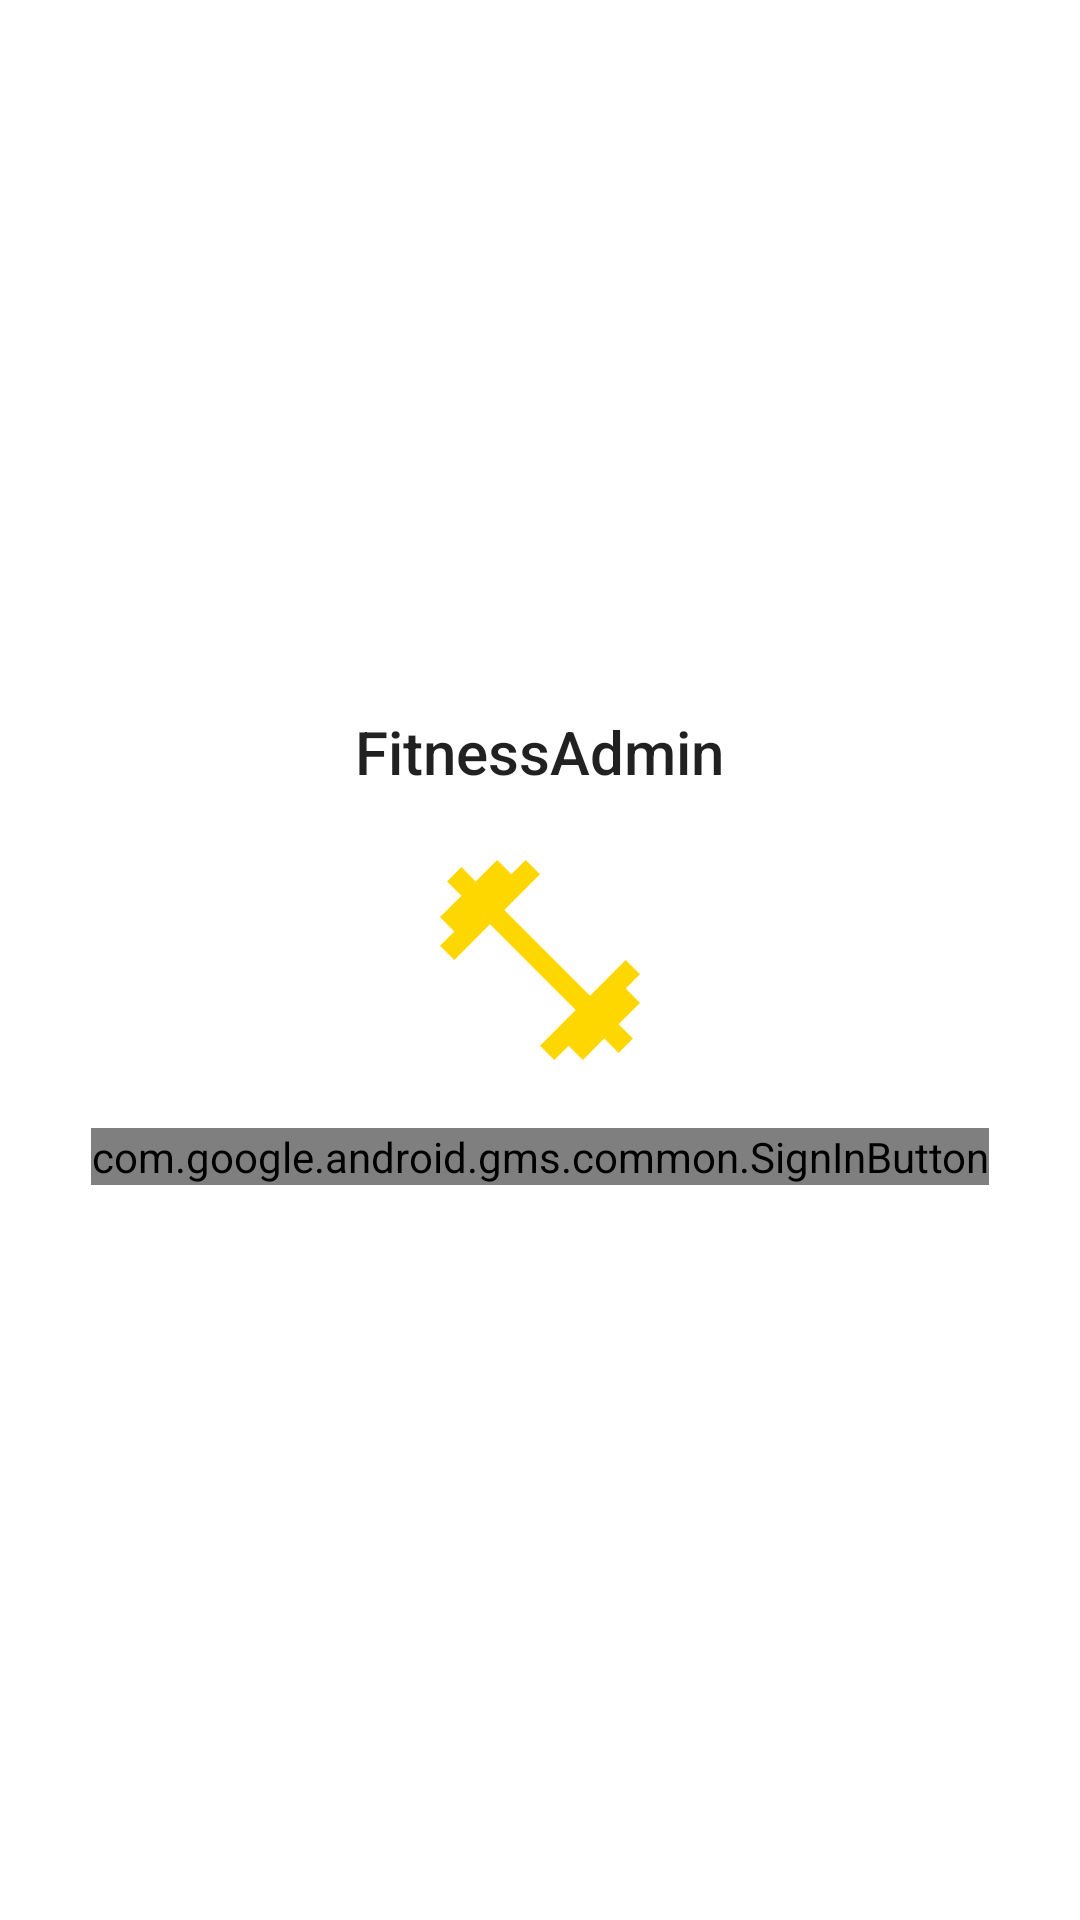

Locate icon controls on the screen. Image size 1080w x 1920h, boxes as detection(x1, y1, x2, y2).
fitness center: detection(440, 860, 640, 1060)
